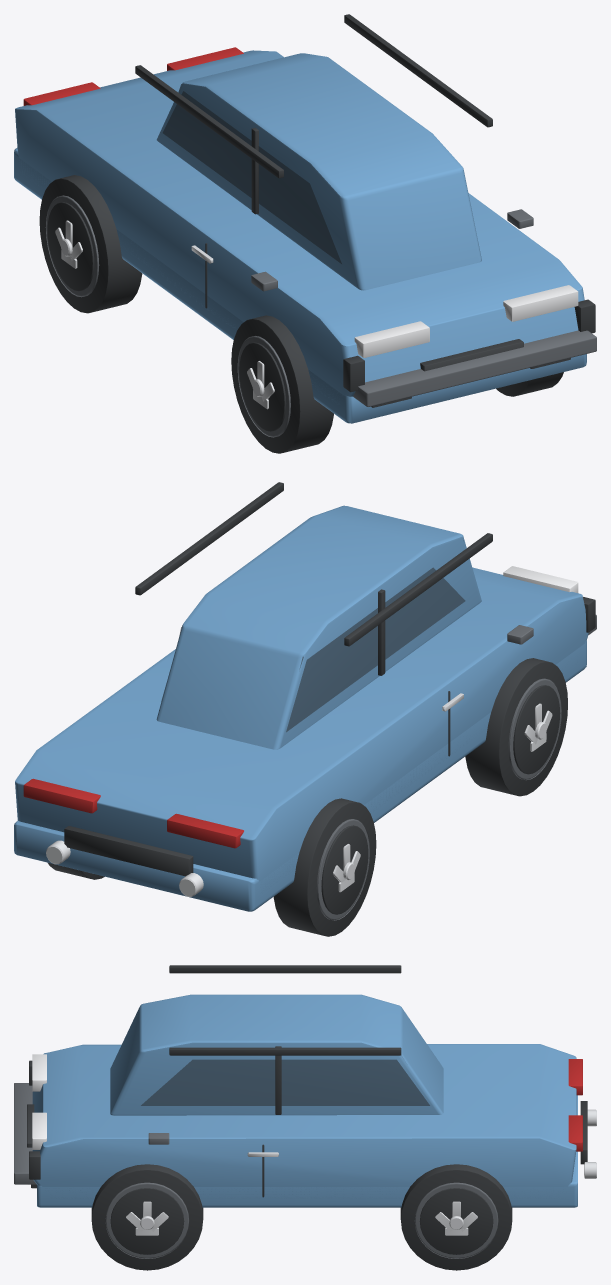
Rendered from atlas-4x4.glb.
3 renders of one model, top to bottom at view 1: azimuth 30°, elevation 25°; view 2: azimuth 150°, elevation 25°; view 3: azimuth 270°, elevation 25°, orthographic. The views are drawn at different scales.
Parts seen in each view (by area): view 1: paint, trim, accent, glass, head, rim, tail; view 2: paint, trim, glass, tail, accent, rim, head; view 3: paint, trim, glass, accent, rim, head, tail.
Boxes of the visible parts, x1,y1,x2,y2 form: paint: (14, 50, 586, 423); trim: (39, 14, 595, 453); accent: (45, 195, 596, 437); glass: (163, 84, 341, 263); head: (354, 285, 578, 357); rim: (55, 220, 274, 409); tail: (23, 47, 243, 105); paint: (14, 505, 588, 911); trim: (48, 482, 595, 936); glass: (161, 567, 465, 731); tail: (23, 778, 243, 848); accent: (316, 615, 596, 920); rim: (46, 693, 552, 896); head: (503, 566, 578, 592); paint: (32, 994, 577, 1207); trim: (27, 965, 587, 1270); glass: (141, 1059, 429, 1105); accent: (14, 1083, 498, 1258); rim: (126, 1109, 596, 1235); head: (32, 1054, 46, 1149); tail: (568, 1059, 582, 1151).
Bounding box in the file's own units: 2.3 × 2 × 5.02.
